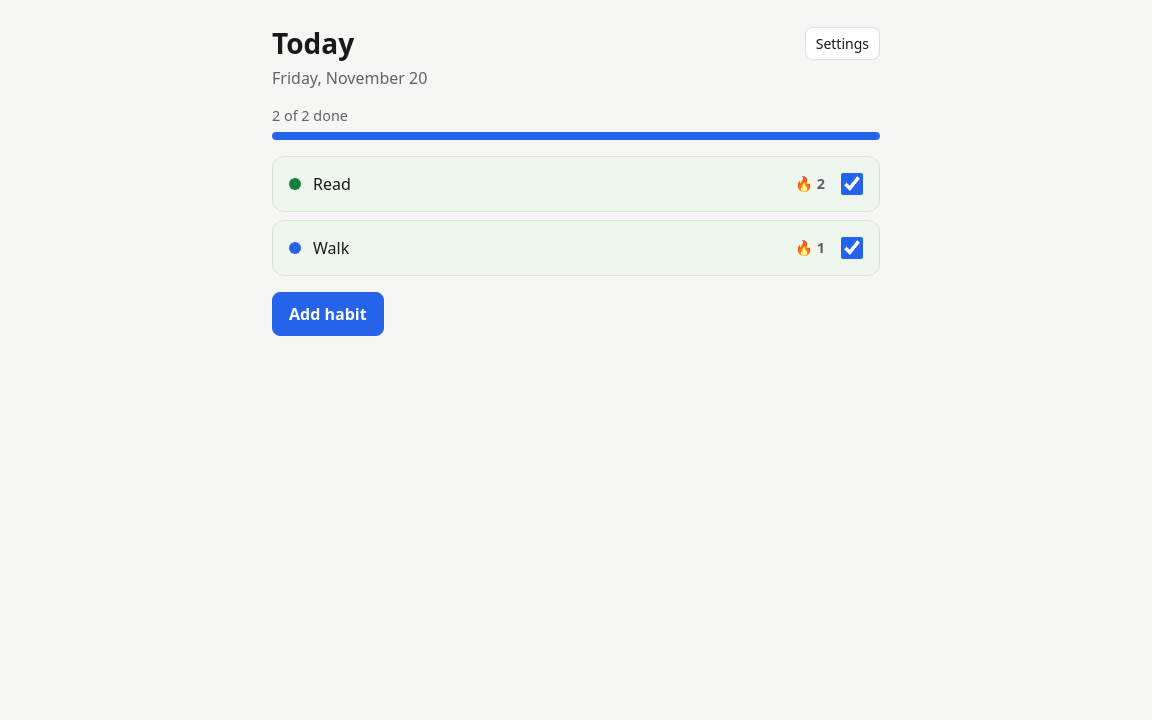
Settings › Clear all data › asks first, then deletes everything
Click the button "Settings".
click(842, 44)  # box x1=805 y1=27 x2=880 y2=60
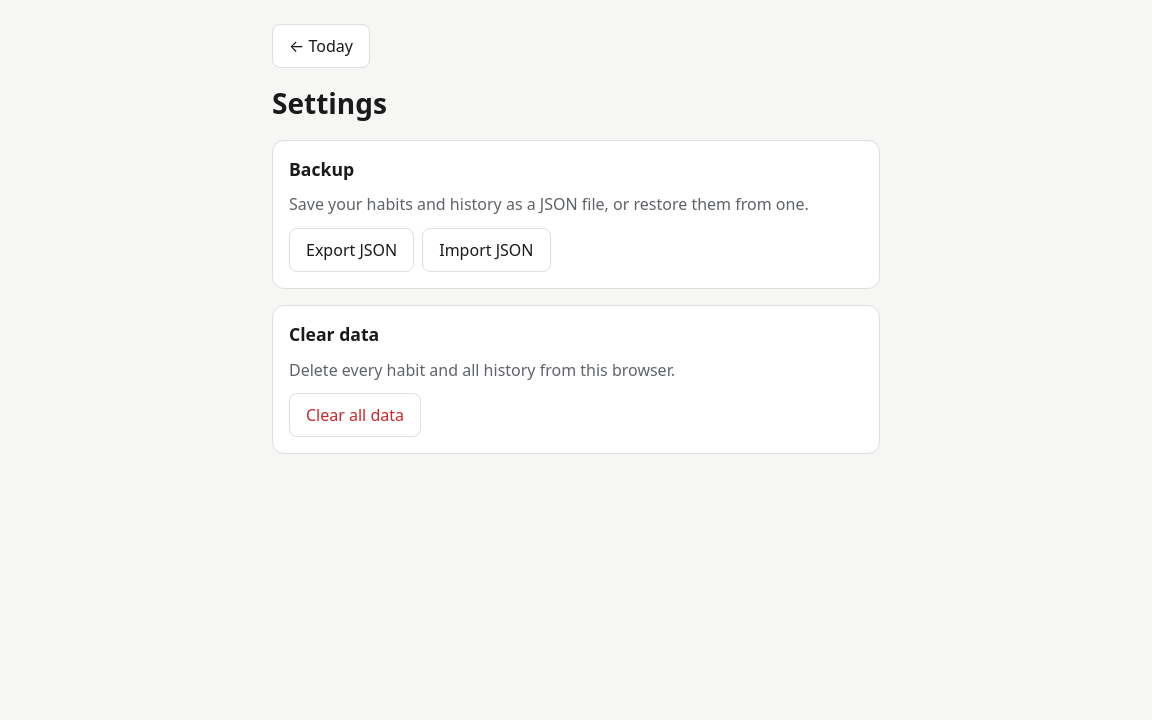
Click the button "Clear all data".
click(355, 415)  # box x1=289 y1=393 x2=421 y2=437
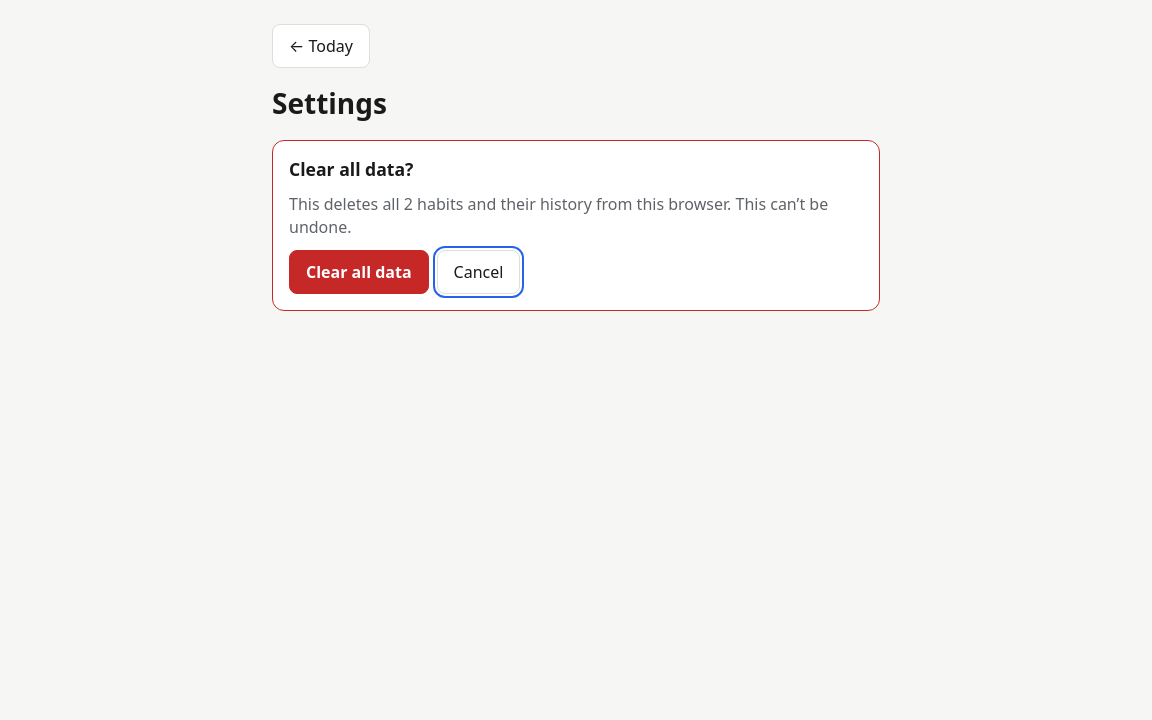
Click the button "Clear all data".
click(359, 272)  # box x1=289 y1=250 x2=429 y2=294
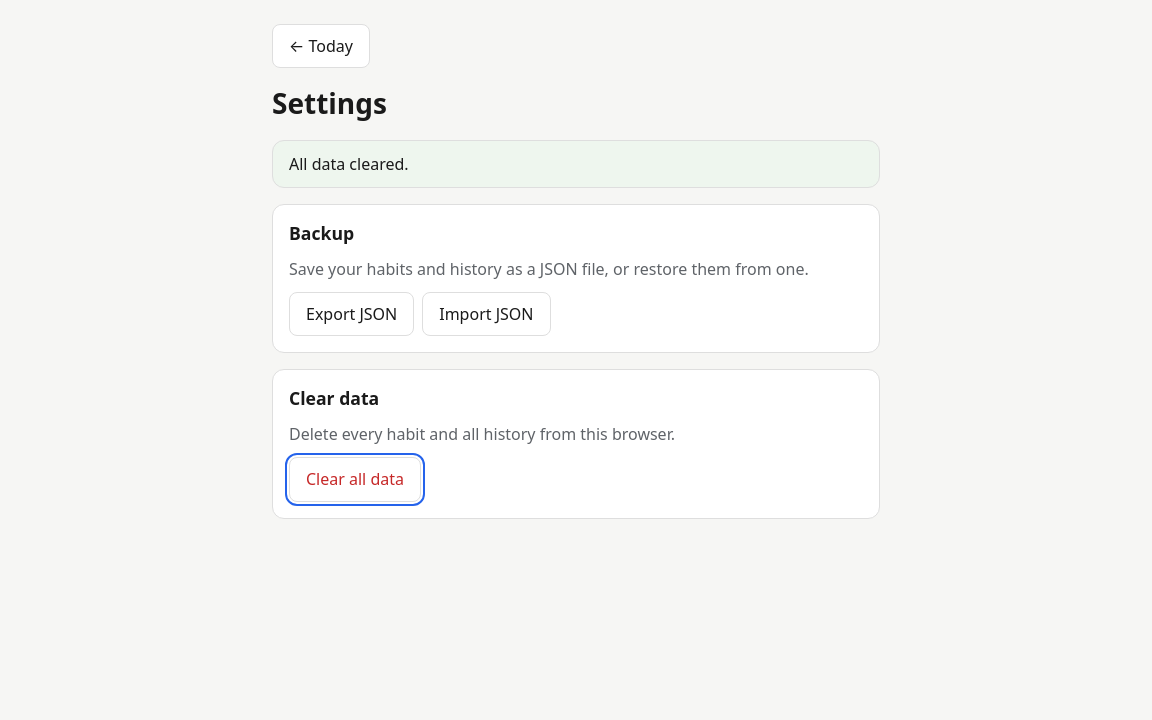
Expected: the message reads "All data cleared.", x1=289 y1=153 x2=409 y2=175
Click the button "← Today".
click(321, 46)  # box x1=272 y1=24 x2=370 y2=68
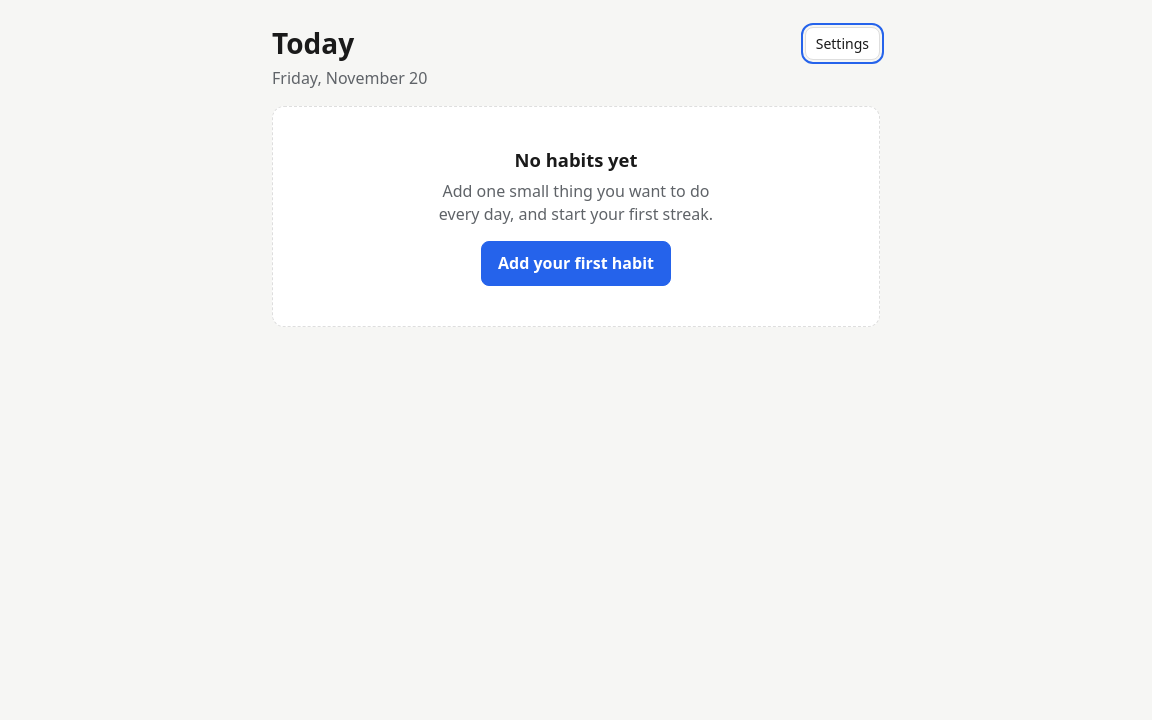
Expected: the text "No habits yet" is shown, x1=515 y1=147 x2=637 y2=172
